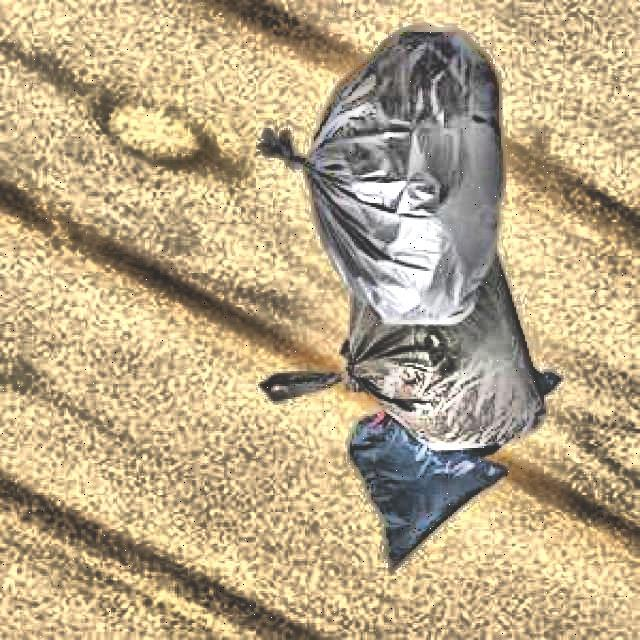Trashbag: (312, 40, 500, 318), (338, 253, 549, 455), (345, 410, 513, 575)
